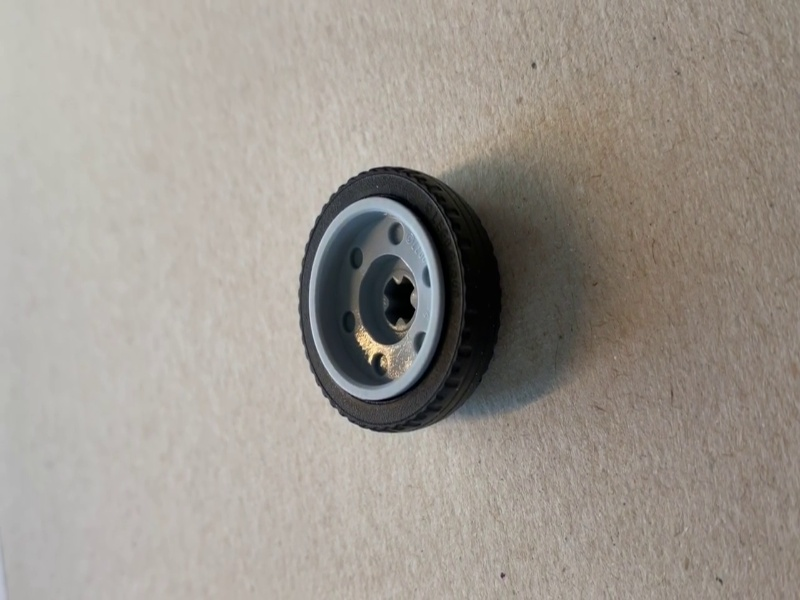tire: (297, 164, 504, 434)
